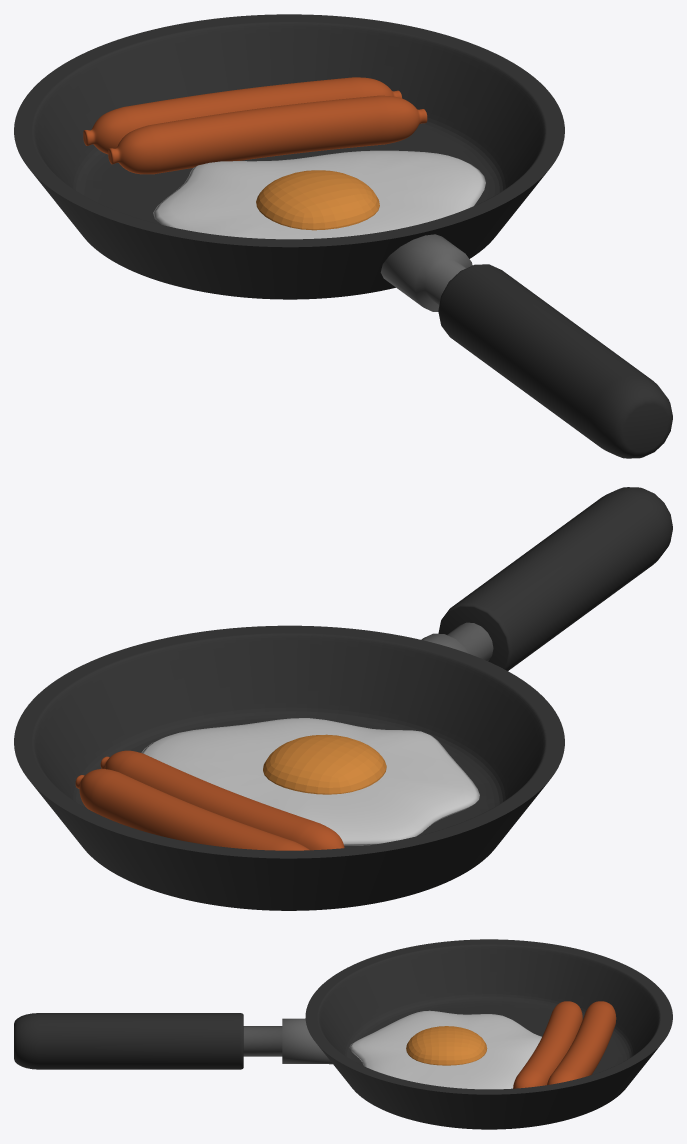
File: skovorodka.glb
3 renders of one model, top to bottom at view 1: azimuth 30°, elevation 25°; view 2: azimuth 150°, elevation 25°; view 3: azimuth 270°, elevation 25°, orthographic. The views are drawn at different scales.
Parts seen in each view (by area): view 1: Cylinder.001, Cube, Cube.001, Cube.002; view 2: Cylinder.001, Cube, Cube.002, Cube.001; view 3: Cylinder.001, Cube, Cube.002, Cube.001.
Boxes of the visible parts, x1,y1,x2,y2 form: Cylinder.001: (14, 14, 672, 458); Cube: (153, 150, 485, 239); Cube.001: (108, 95, 427, 174); Cube.002: (83, 77, 402, 154); Cylinder.001: (14, 487, 672, 910); Cube: (141, 718, 479, 845); Cube.002: (75, 769, 309, 850); Cube.001: (100, 750, 344, 850); Cylinder.001: (14, 939, 672, 1129); Cube: (349, 1010, 541, 1089); Cube.002: (547, 1001, 616, 1084); Cube.001: (513, 1001, 582, 1088).
Bounding box in the file's own units: 3.9 × 0.617 × 6.99.
